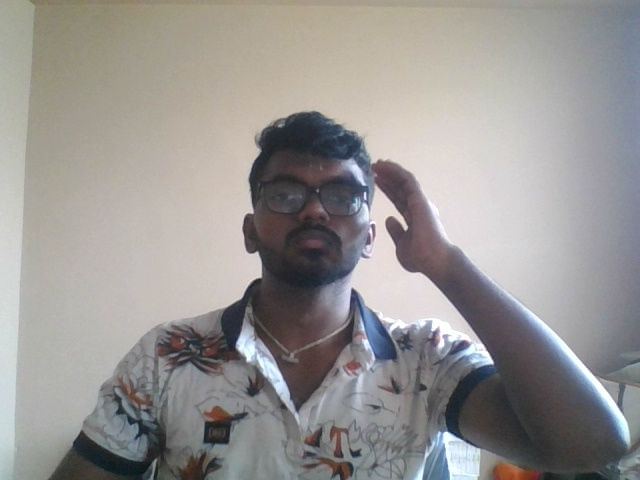Hello: (355, 148, 475, 303)
